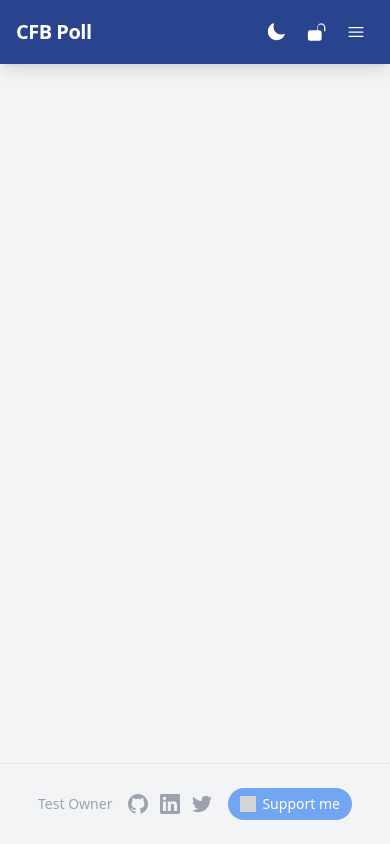
it: Layout › shows admin section in mobile menu when authenticated
Click the button named "Open menu": (356, 32) [338, 14, 374, 50]
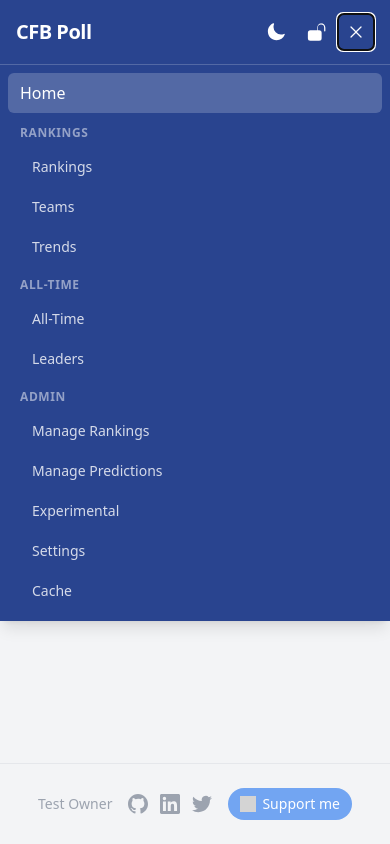
Expected: the link "Manage Rankings" is shown, [32, 421, 150, 440]
Expected: the link "Manage Predictions" is shown, [32, 461, 162, 480]
Expected: the link "Settings" is shown, [32, 541, 85, 560]
